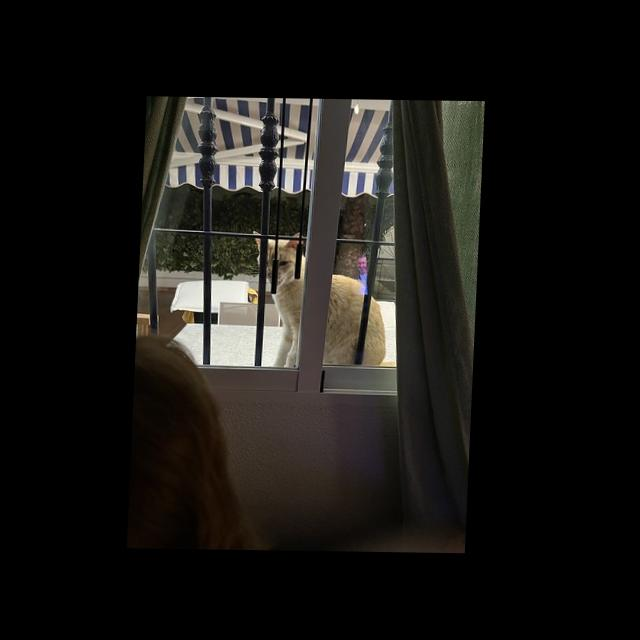animals: (246, 229, 407, 369)
